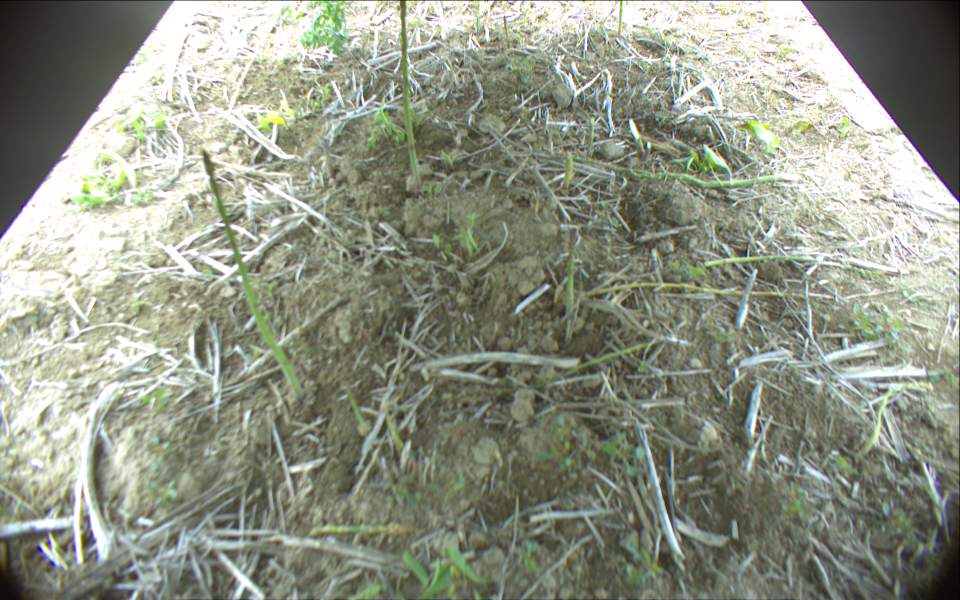aspa: (202, 149, 304, 403), (861, 383, 929, 456), (397, 1, 423, 187), (586, 281, 810, 297), (622, 172, 803, 185), (705, 253, 847, 269), (304, 523, 415, 534), (567, 229, 579, 309), (563, 148, 574, 188), (501, 14, 510, 50), (616, 1, 625, 36), (588, 118, 597, 148)
